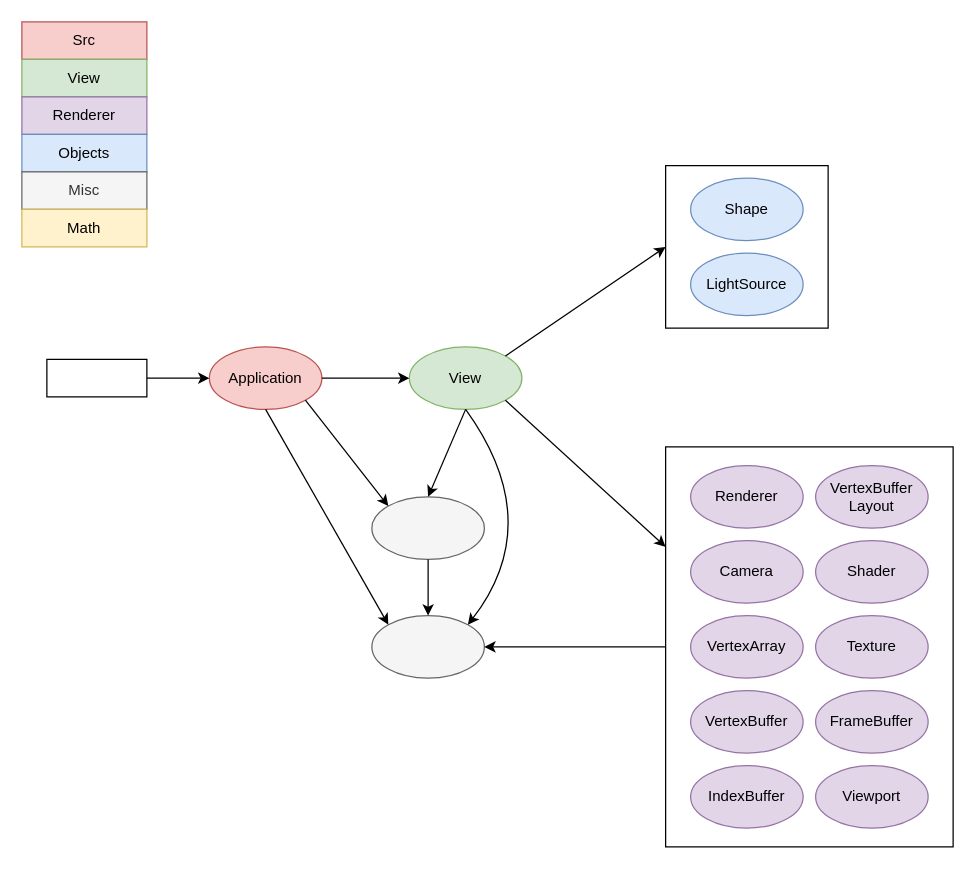
This 975x869 diagram has some shape labels left out. Here are the shapes that lost their labels. From the top down, the centre of each, then its label:
At point (96, 377): "Entrypoint".
At point (427, 527): "GLWindow".
At point (427, 646): "Log".
